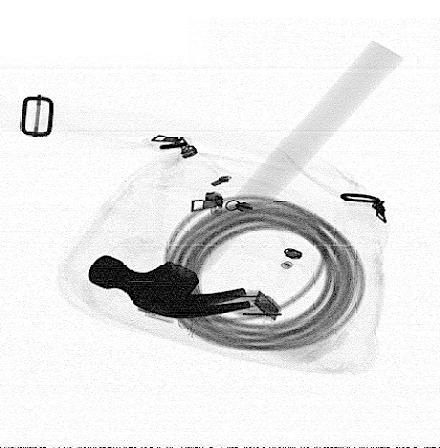Hammer: (88, 39, 404, 320)
